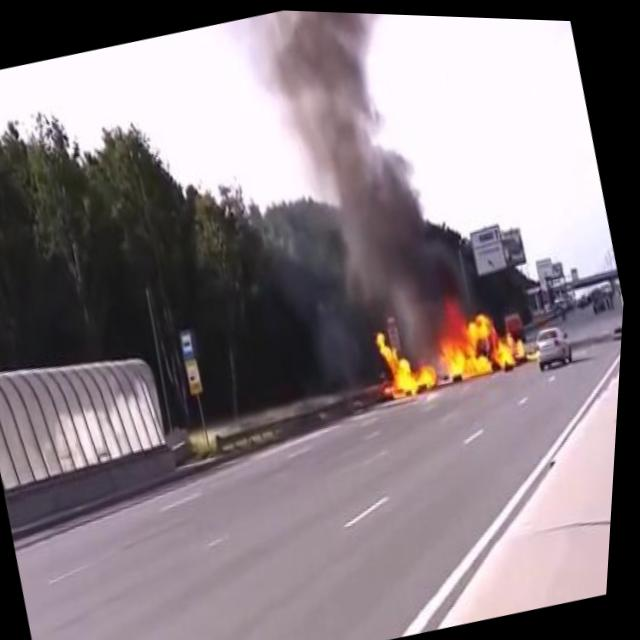fire: (366, 286, 540, 408)
